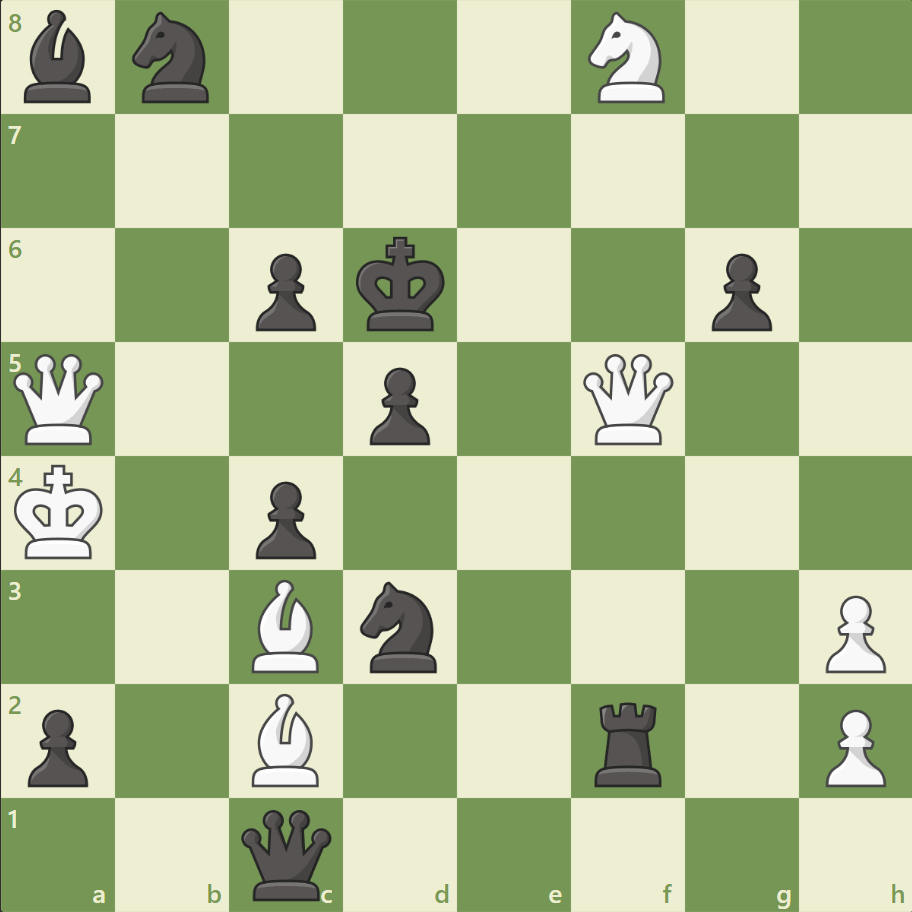B: (244, 687, 328, 790), (244, 574, 328, 676)
K: (11, 458, 111, 566)
N: (579, 7, 676, 110)
P: (815, 586, 889, 677), (815, 700, 889, 791)
Q: (10, 349, 109, 449), (578, 349, 677, 449)
b: (17, 6, 101, 109)
k: (351, 231, 451, 339)
n: (124, 7, 222, 110), (351, 575, 449, 677)
p: (247, 246, 322, 337), (701, 246, 776, 337), (247, 473, 322, 564), (20, 700, 95, 791), (361, 359, 435, 450)
q: (237, 804, 336, 903)
r: (587, 693, 670, 790)
